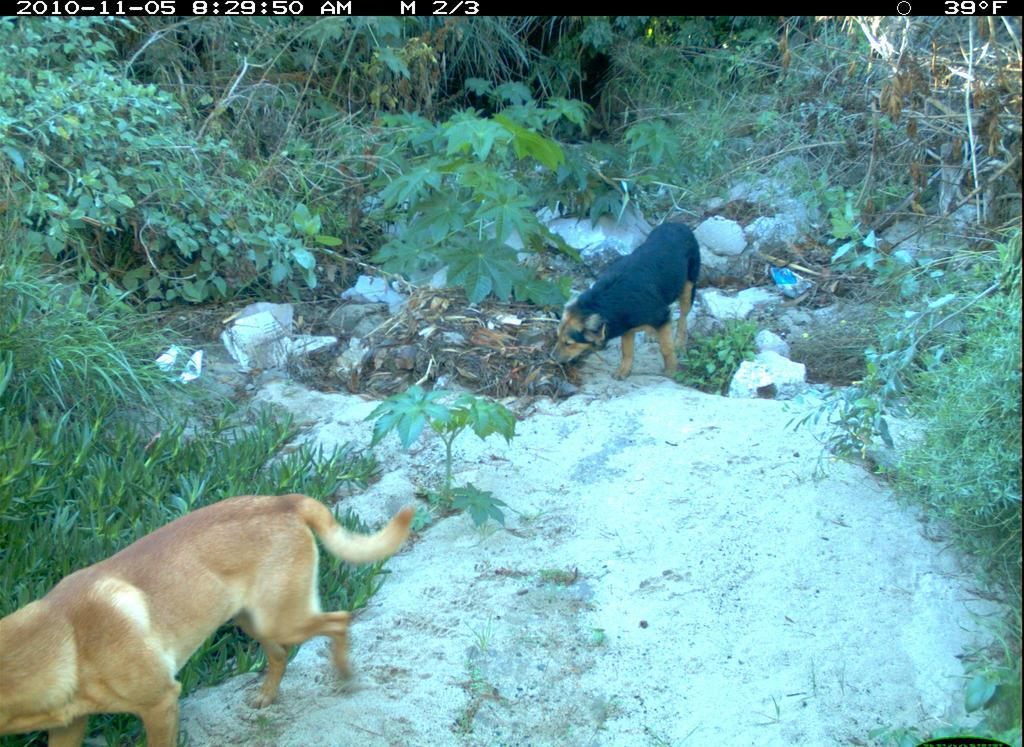dog: (3, 475, 432, 747), (509, 195, 731, 423)
